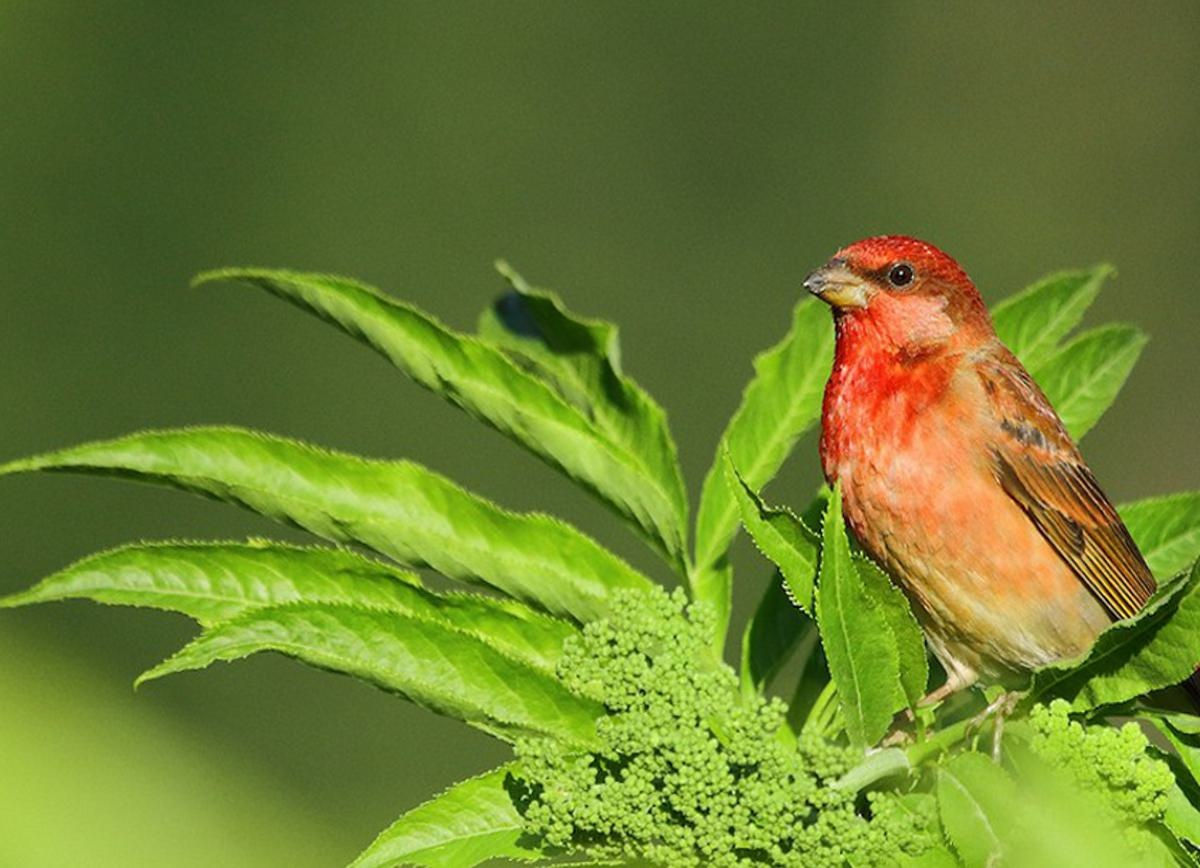rosefinch: (805, 221, 1148, 669)
